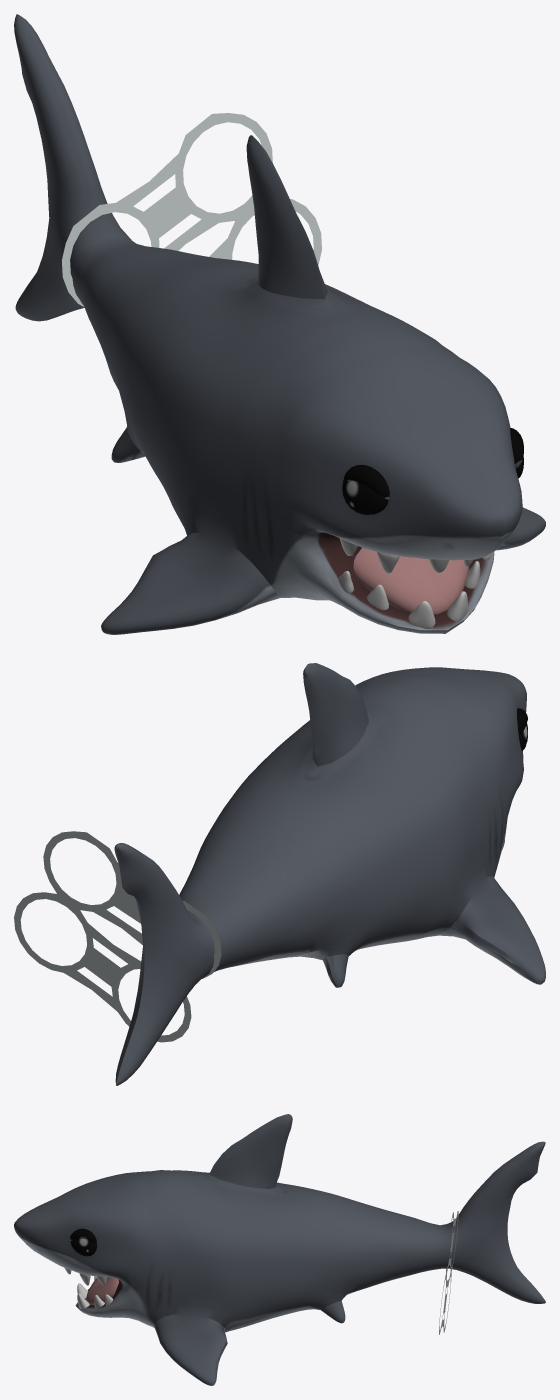
The model's file is dbs_sharkbaby_model1.fbx.
The picture shows the model from 3 angles, top to bottom: view 1: azimuth 30°, elevation 25°; view 2: azimuth 150°, elevation 25°; view 3: azimuth 270°, elevation 25°; orthographic projection. The views are drawn at different scales.
Visible parts, largest first — view 1: Body, Plastic_rings, Tongue, Teeth, Eyelid, Eye; view 2: Body, Plastic_rings; view 3: Body, Teeth, Tongue, Plastic_rings, Eye.
Part boxes in pixels (x1,y1,x2,y2): Body: (14,14,545,634); Plastic_rings: (62,113,321,306); Tongue: (353,547,469,614); Teeth: (338,538,491,628); Eyelid: (343,428,523,499); Eye: (342,457,523,514); Body: (114,663,545,1085); Plastic_rings: (14,831,221,1042); Body: (14,1114,545,1385); Teeth: (64,1268,112,1309); Tongue: (86,1277,118,1304); Plastic_rings: (439,1211,458,1334); Eye: (70,1238,97,1256).
Bounding box in the file's own units: 1.87 × 1.59 × 3.58.
Materials: 5 (3 with a texture image).
